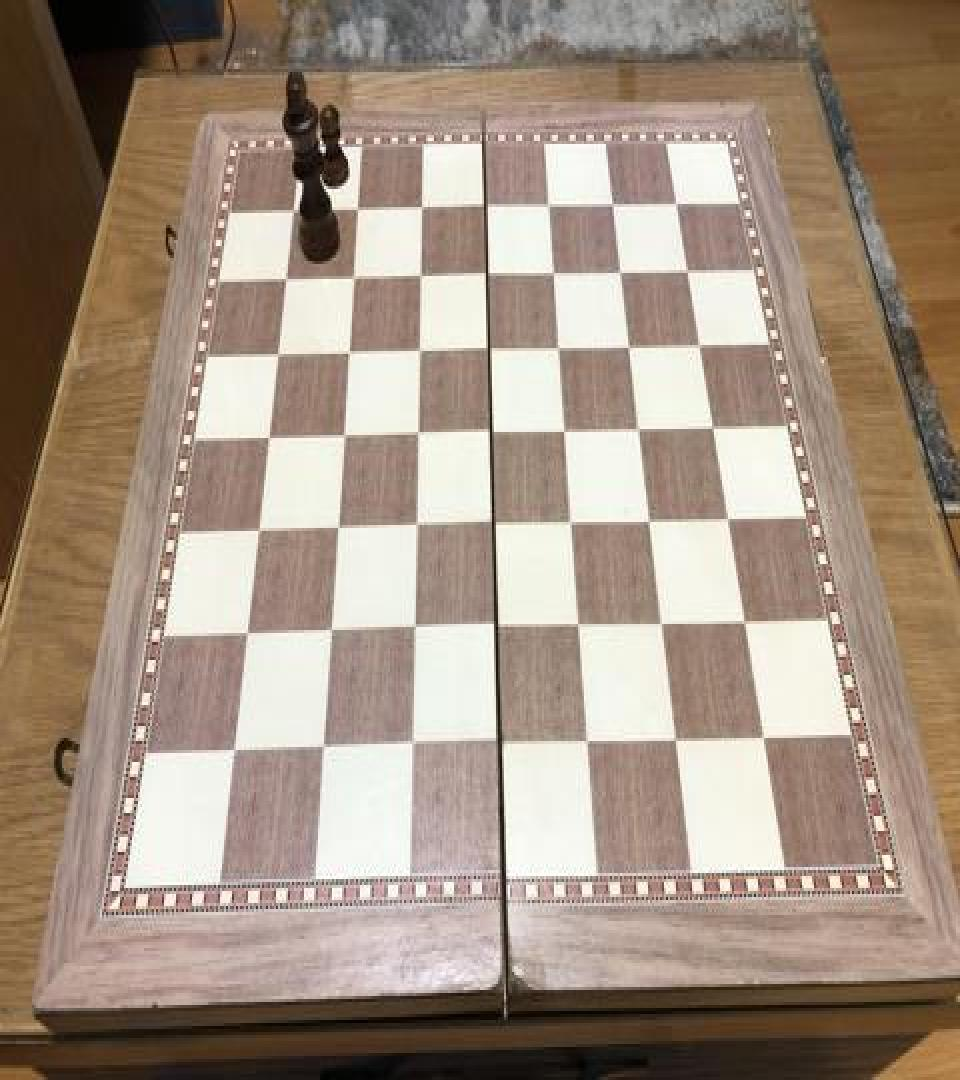xcorner: (569, 610, 593, 647), (236, 616, 260, 653), (489, 727, 513, 764), (224, 733, 248, 770), (666, 189, 690, 225), (602, 189, 626, 225), (538, 190, 562, 226), (474, 190, 498, 226), (410, 192, 434, 228), (346, 192, 370, 228), (282, 192, 306, 228), (677, 256, 701, 292), (610, 258, 634, 294), (543, 258, 567, 294), (342, 261, 366, 297), (274, 261, 298, 297), (689, 332, 713, 368), (619, 332, 643, 368), (549, 333, 573, 369), (478, 334, 502, 370), (408, 334, 432, 370), (337, 336, 361, 372), (266, 336, 290, 372), (702, 414, 726, 450), (629, 416, 653, 452), (555, 416, 579, 452), (481, 417, 505, 453), (406, 418, 430, 454), (332, 418, 356, 454), (257, 420, 281, 456), (717, 506, 741, 542), (639, 507, 663, 543), (561, 508, 585, 544), (483, 508, 507, 544), (405, 510, 429, 546), (326, 512, 350, 548), (247, 513, 271, 549), (734, 608, 758, 644), (651, 609, 675, 645), (486, 612, 510, 648), (403, 614, 427, 650), (320, 615, 344, 651), (752, 723, 776, 759), (665, 724, 689, 760), (577, 726, 601, 762), (401, 729, 425, 765), (313, 732, 337, 768), (476, 260, 500, 295), (409, 260, 433, 295)
